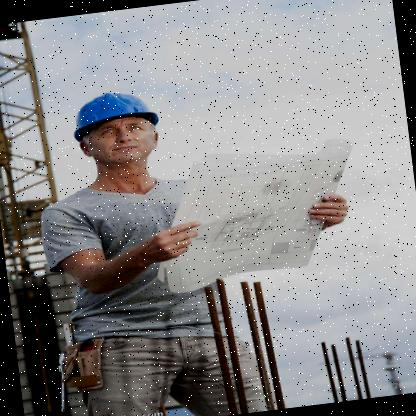capacete: (66, 81, 166, 184)
sem_colete_refletivo: (26, 166, 220, 338)
